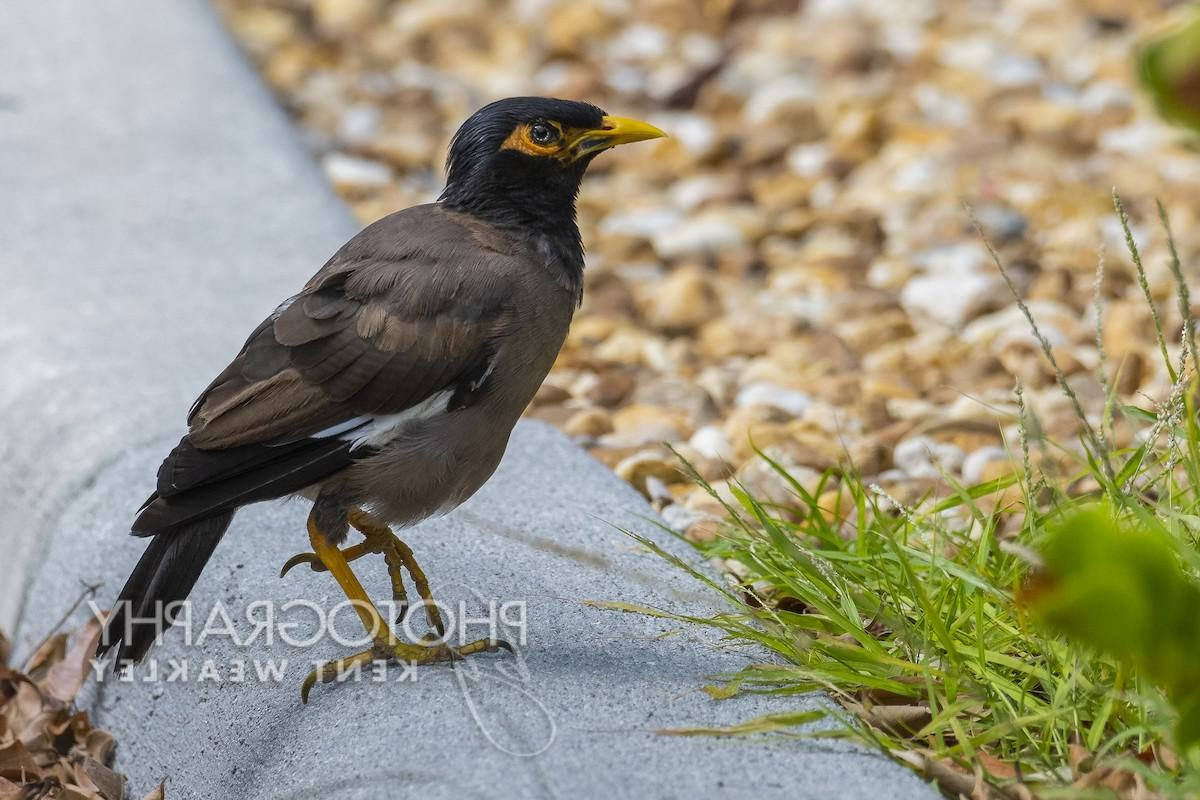myna: (173, 85, 710, 642)
